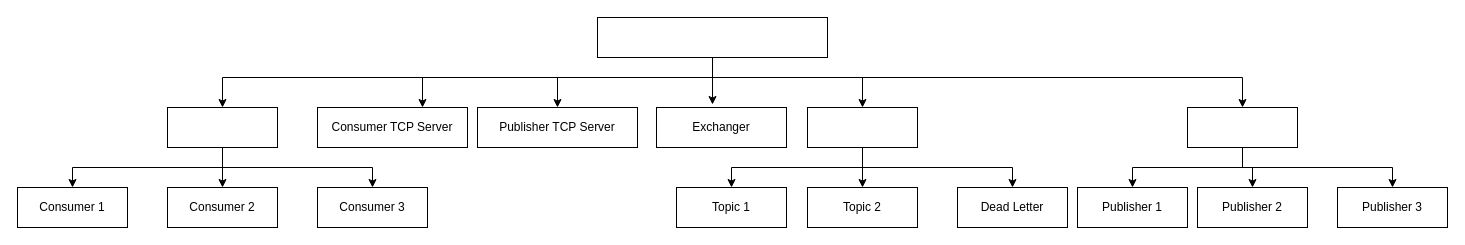
Image size: 1465x245. Some labels were removed from this diagram. The box of each missing label's shape, as (x1, y1, x2, y2) in pixels:
Consumer Supervisor: (166, 106, 278, 148)
Message Broker Supervisor: (596, 16, 828, 58)
Publisher Supervisor: (1186, 106, 1298, 148)
Topic Supervisor: (806, 106, 918, 148)
